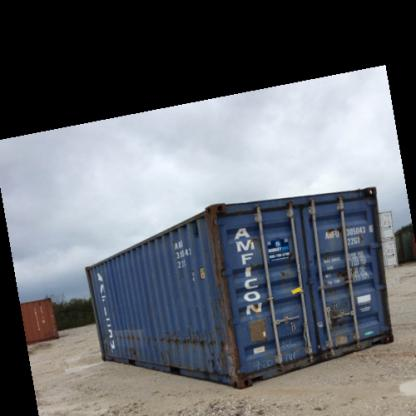Damage: (203, 216, 245, 378), (325, 300, 359, 332), (146, 330, 202, 348), (277, 332, 300, 369), (319, 216, 353, 235), (109, 327, 144, 342), (332, 258, 358, 278), (250, 352, 272, 370), (278, 262, 293, 288), (126, 344, 145, 356)
